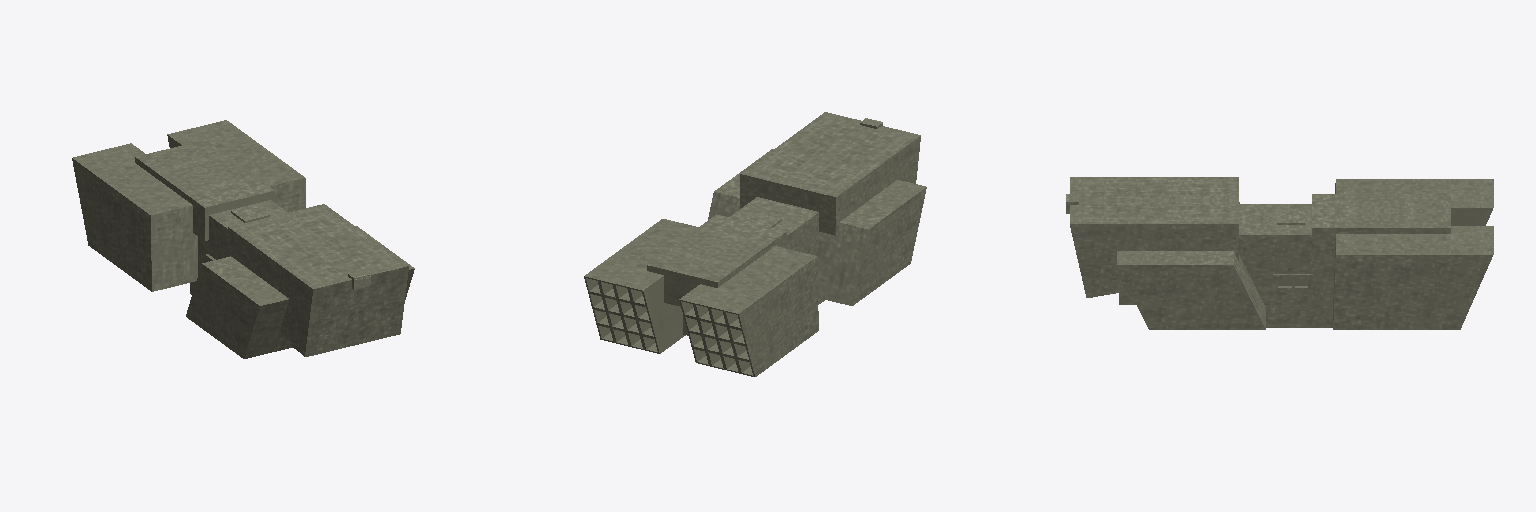
3 views of the same model, side by side, from view 1: azimuth 30°, elevation 25°; view 2: azimuth 150°, elevation 25°; view 3: azimuth 270°, elevation 25° (orthographic).
Parts seen in each view (by area): view 1: Carrier_ShipMesh; view 2: Carrier_ShipMesh; view 3: Carrier_ShipMesh.
Part boxes in pixels (x1,y1,x2,y2): Carrier_ShipMesh: (72,120,414,358); Carrier_ShipMesh: (584,112,926,376); Carrier_ShipMesh: (1066,177,1493,329).
Bounding box in the file's own units: 9.7 × 6.91 × 23.18.
Materials: 1 (1 with a texture image).